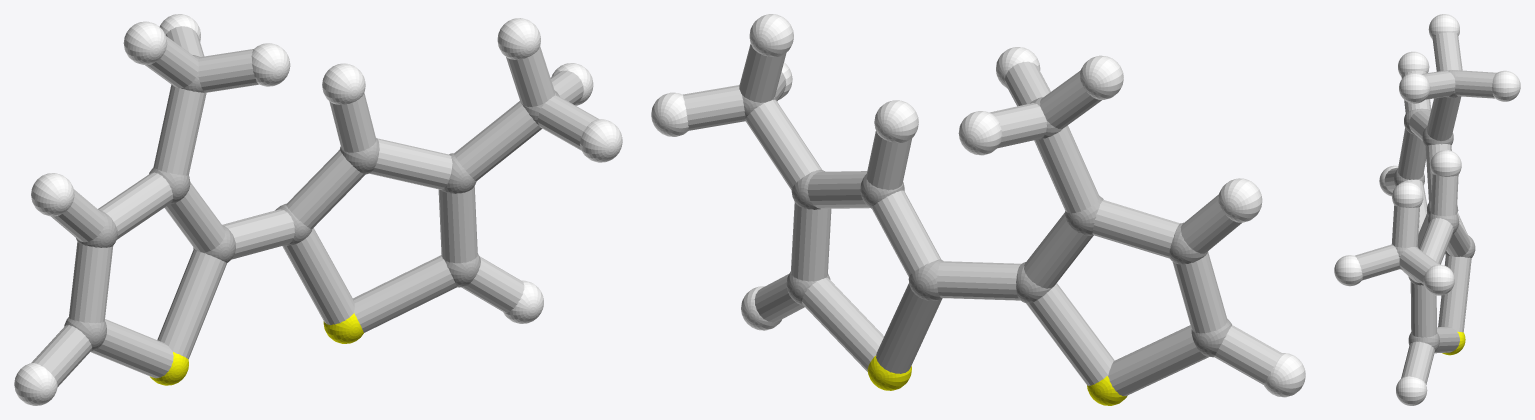
The model's file is Methylthiophene_Phi_30_Theta_190_Methylthiophene.glb.
The picture shows the model from 3 angles, left to right: view 1: azimuth 30°, elevation 25°; view 2: azimuth 150°, elevation 25°; view 3: azimuth 270°, elevation 25°; orthographic projection. The views are drawn at different scales.
Visible parts, largest first — view 1: grp7965, grp3621, grp1, grp7241; view 2: grp7965, grp3621, grp1, grp7241; view 3: grp7965, grp3621, grp1.
Boxes of the visible parts, x1,y1,x2,y2 form: grp7965: (31, 26, 598, 387); grp3621: (14, 14, 622, 405); grp1: (64, 55, 559, 351); grp7241: (150, 313, 363, 385); grp7965: (683, 43, 1281, 396); grp3621: (651, 14, 1305, 397); grp1: (742, 94, 1231, 357); grp7241: (867, 355, 1127, 405); grp7965: (1355, 32, 1496, 384); grp3621: (1334, 14, 1520, 405); grp1: (1393, 70, 1475, 351).
Size of the model in its own units: 9.59 by 5.63 by 3.56.
